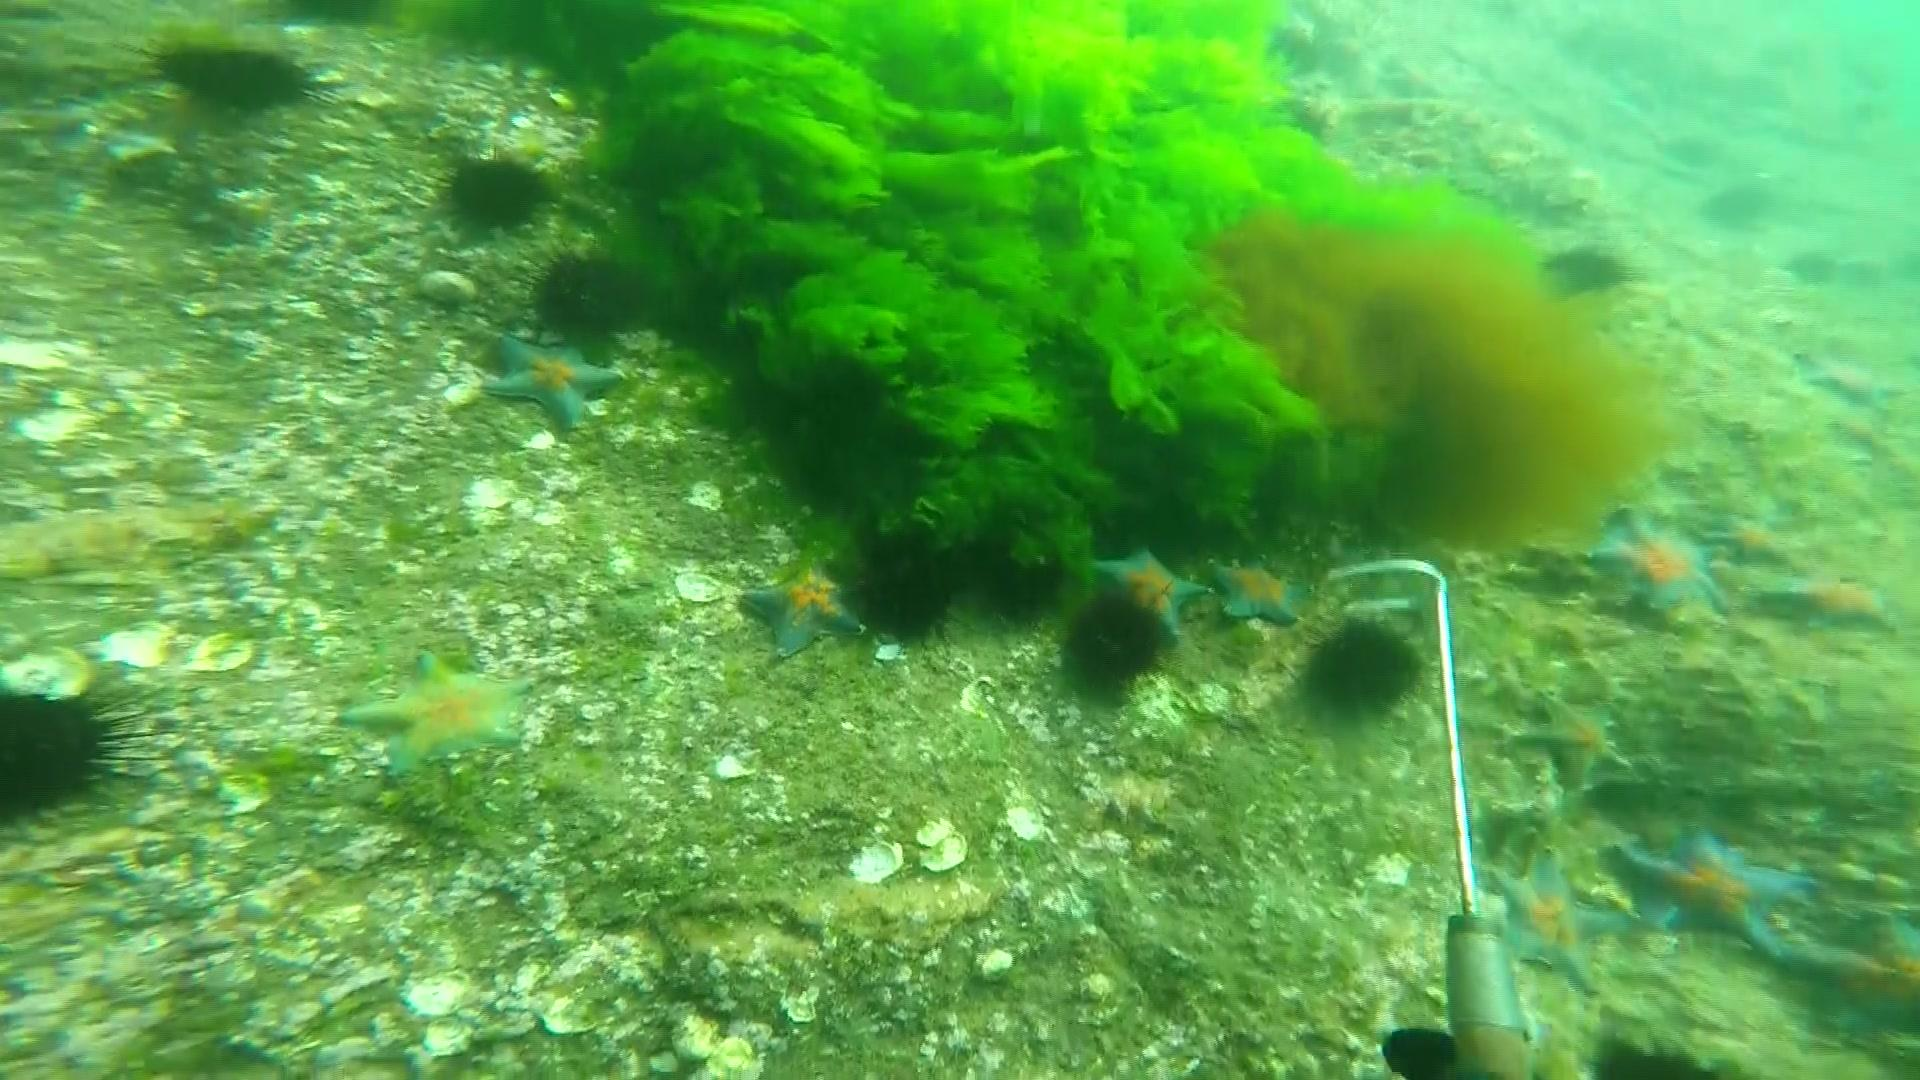echinus: (1, 675, 183, 836), (109, 34, 338, 123), (1298, 604, 1437, 723), (505, 244, 653, 344), (423, 138, 568, 240), (1059, 582, 1179, 696), (852, 535, 955, 644), (972, 533, 1065, 633), (1547, 231, 1652, 299), (1702, 179, 1774, 232), (1669, 133, 1722, 169), (1789, 249, 1836, 287)
starfish: (1611, 829, 1824, 967), (342, 645, 538, 781), (1482, 836, 1636, 1001), (1803, 909, 1920, 1054), (1586, 500, 1724, 613), (735, 555, 869, 666), (462, 336, 624, 426), (1516, 688, 1640, 789), (1087, 539, 1204, 634), (1755, 564, 1905, 638), (1784, 338, 1913, 419), (1209, 559, 1323, 630)
